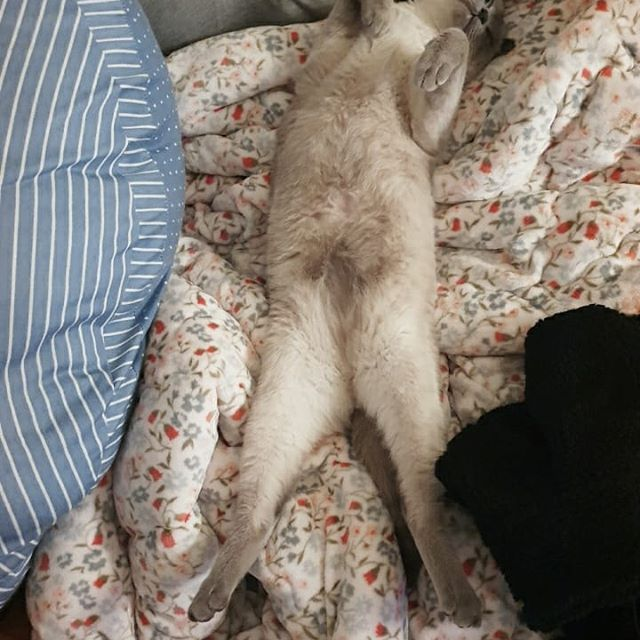cat: (432, 1, 507, 75)
